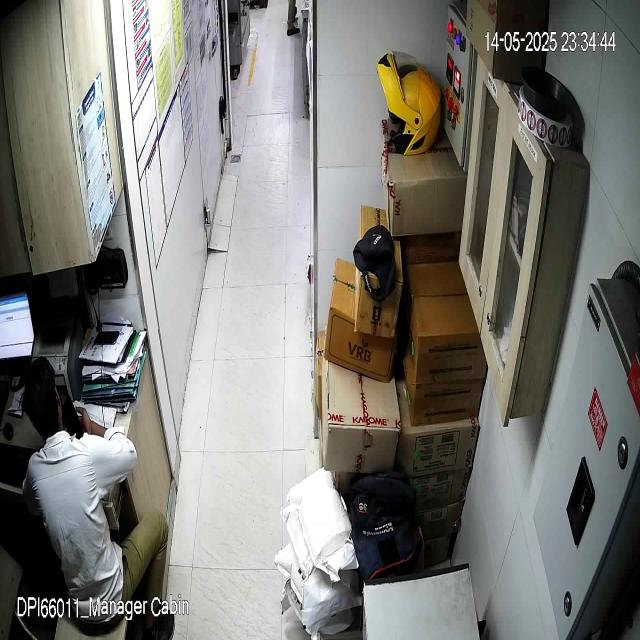helmet: (378, 45, 443, 157)
